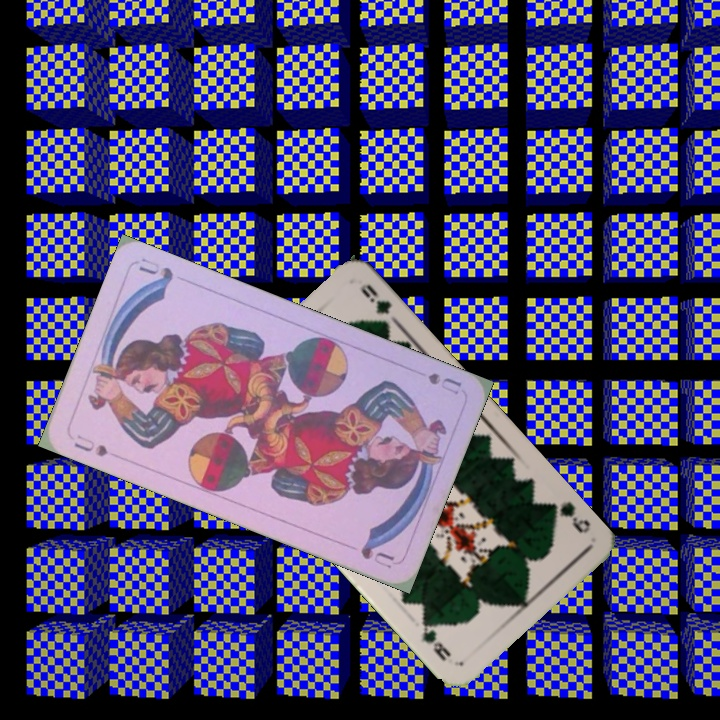G9: (543, 497, 593, 537)
SU: (70, 430, 111, 459), (424, 369, 465, 397)
